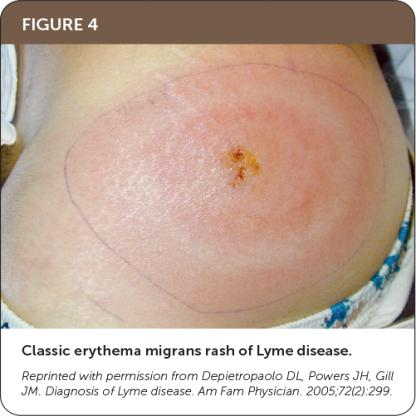Ringworm: (77, 63, 372, 274)
